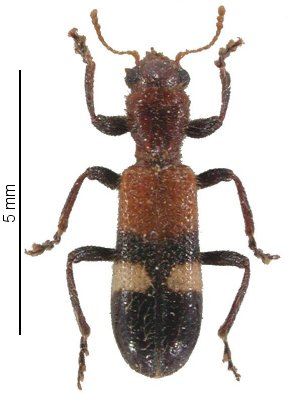opilo_taeniatus: (23, 3, 282, 388)
